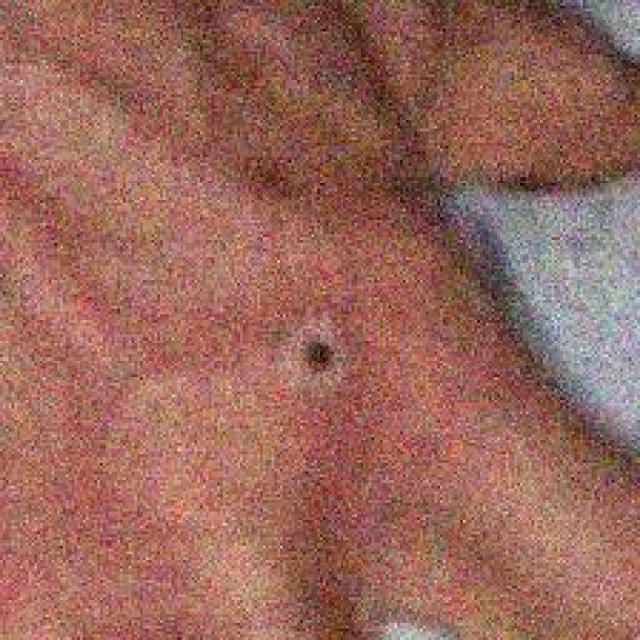monkeypox: (114, 176, 456, 535)
